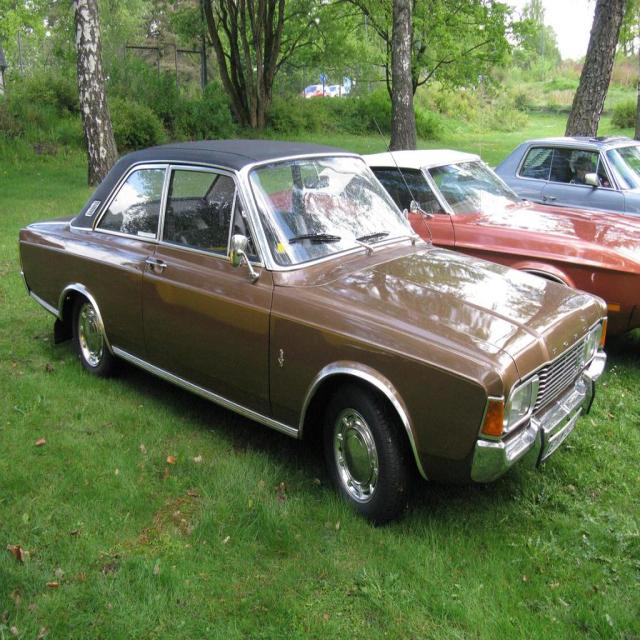car: (17, 120, 608, 530)
